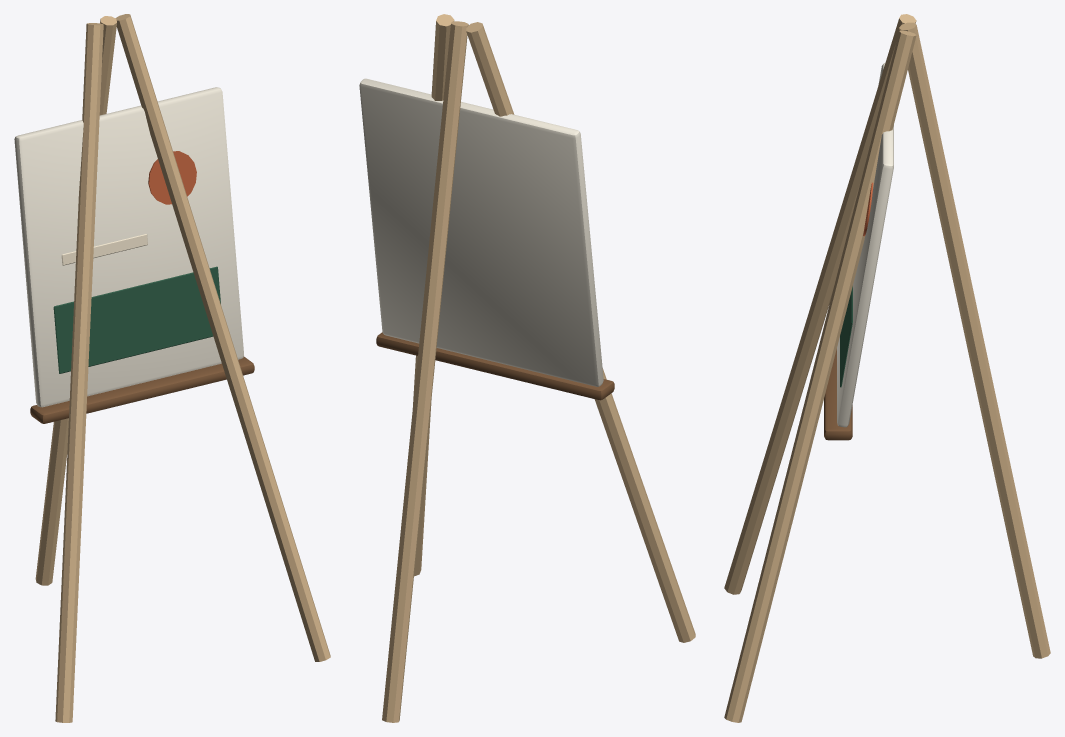
File: easel.glb
3 views of the same model, side by side, from view 1: azimuth 30°, elevation 25°; view 2: azimuth 150°, elevation 25°; view 3: azimuth 270°, elevation 25° (orthographic). The views are drawn at different scales.
Parts seen in each view (by area): view 1: FURN-easel; view 2: FURN-easel; view 3: FURN-easel.
Boxes of the visible parts, <box> form: FURN-easel: <box>14,14,330,722</box>; FURN-easel: <box>359,14,695,722</box>; FURN-easel: <box>724,14,1050,722</box>.
Bounding box in the file's own units: 0.7988 × 1.71 × 0.7989.
